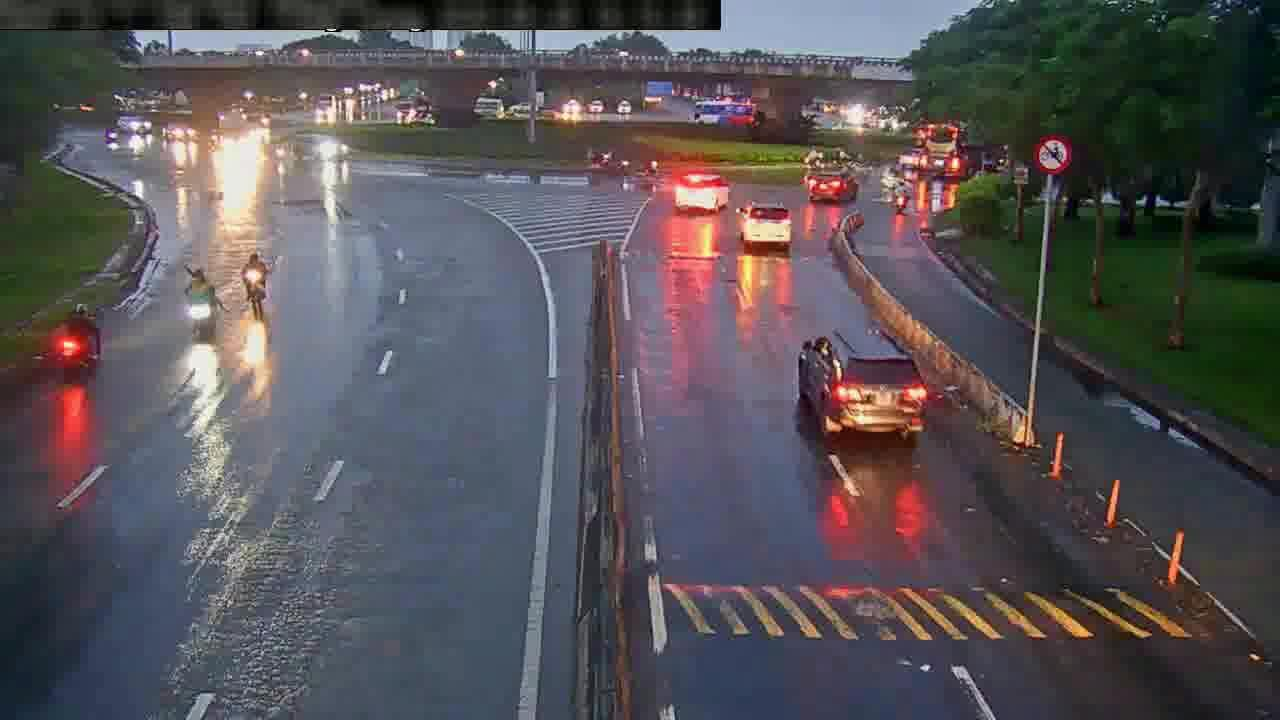container: (799, 326, 926, 448), (735, 197, 792, 250), (672, 169, 730, 213), (802, 168, 861, 200)
motorbike: (58, 301, 102, 374), (182, 267, 226, 337), (240, 250, 275, 311), (891, 179, 911, 220)
